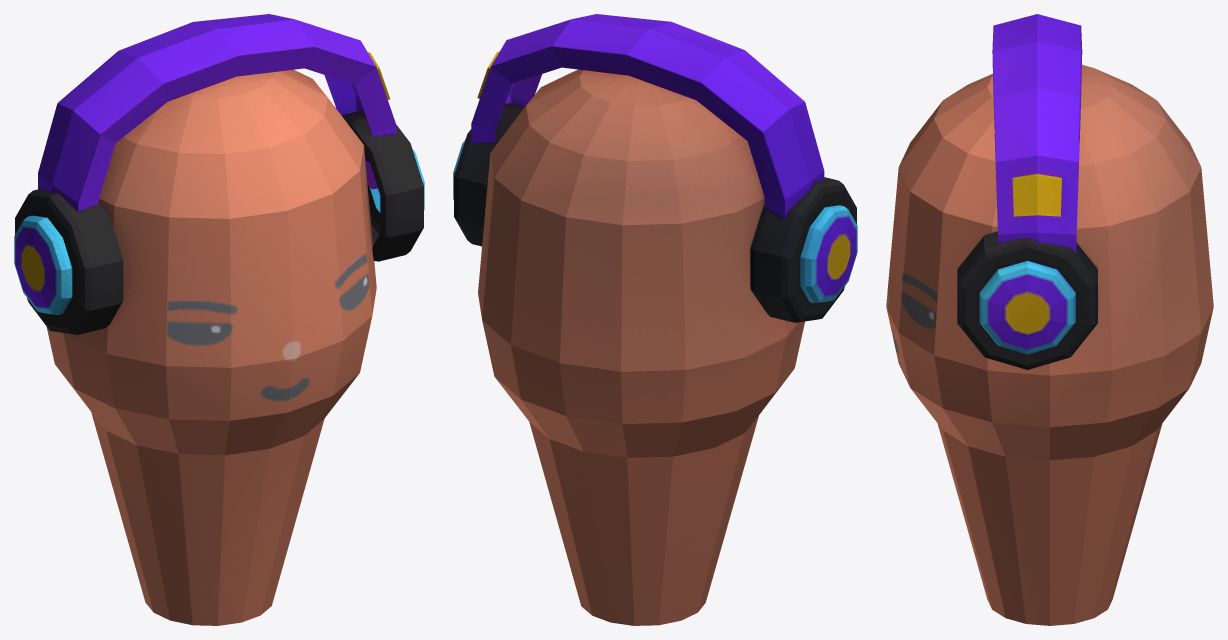
Rendered from head6.glb.
3 renders of one model, left to right at view 1: azimuth 30°, elevation 25°; view 2: azimuth 150°, elevation 25°; view 3: azimuth 270°, elevation 25°, orthographic. The views are drawn at different scales.
Visible parts, largest first — view 1: head6_1; view 2: head6_1; view 3: head6_1.
Boxes of the visible parts, bbox=[...] form: head6_1: bbox=[14, 14, 424, 625]; head6_1: bbox=[453, 14, 857, 625]; head6_1: bbox=[886, 14, 1213, 625].
Size of the model in its own units: 2.07 by 3.04 by 1.62.
Materials: 1 (1 with a texture image).
